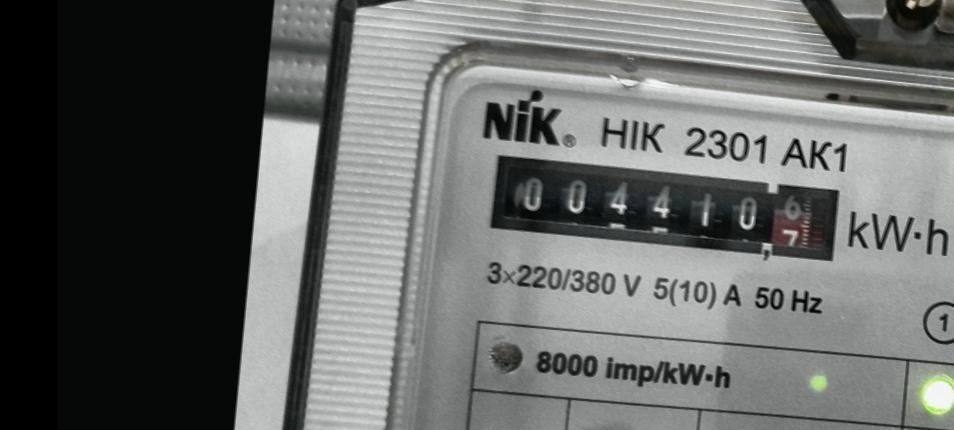0: (520, 172, 545, 212), (736, 193, 759, 231), (566, 175, 587, 214)
1: (697, 189, 714, 228)
4: (649, 181, 675, 221), (607, 175, 632, 215)
6: (784, 193, 804, 220)
7: (779, 226, 800, 247)
screen: (478, 141, 853, 273)
